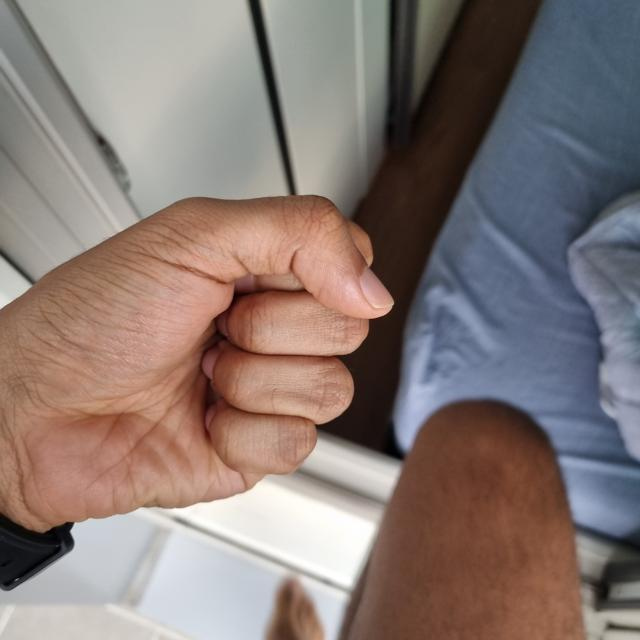Rock: (0, 192, 392, 530)
